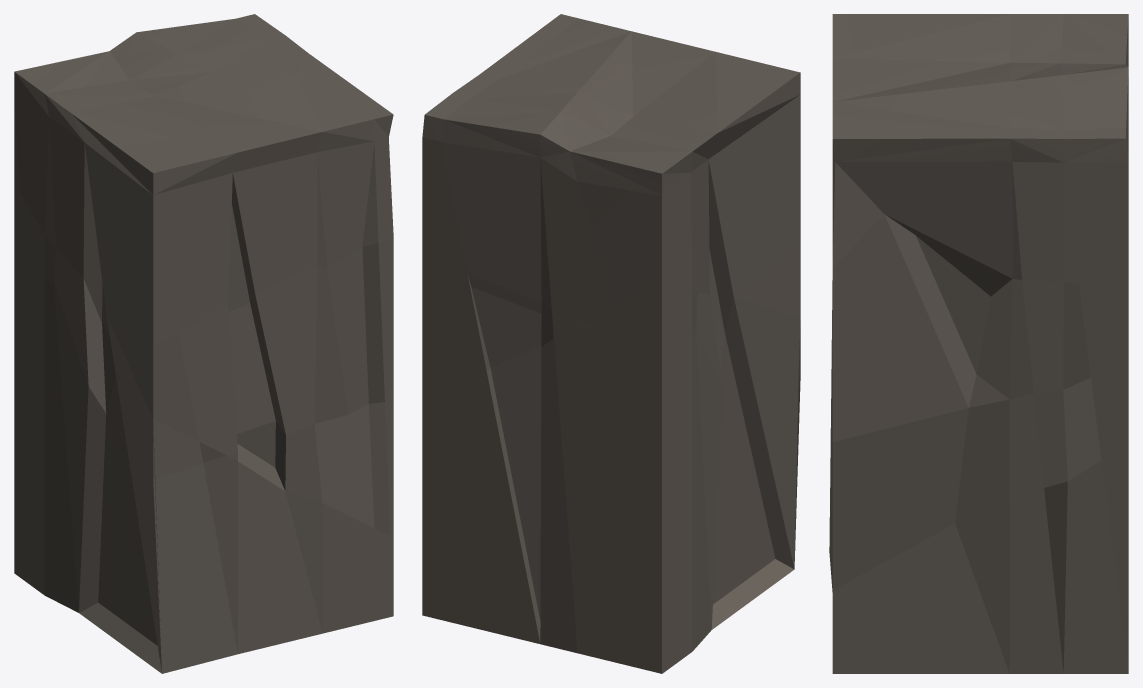
Rendered from rock.gltf.
The picture shows the model from 3 angles, left to right: view 1: azimuth 30°, elevation 25°; view 2: azimuth 150°, elevation 25°; view 3: azimuth 270°, elevation 25°; orthographic projection. The views are drawn at different scales.
Visible parts, largest first — view 1: ground_stone_.001; view 2: ground_stone_.001; view 3: ground_stone_.001.
Boxes of the visible parts, x1,y1,x2,y2 form: ground_stone_.001: [14, 14, 393, 673]; ground_stone_.001: [422, 14, 800, 673]; ground_stone_.001: [829, 14, 1128, 673].
Bounding box in the file's own units: 2.07 × 4.06 × 2.02.
1 material, 1 textured.
